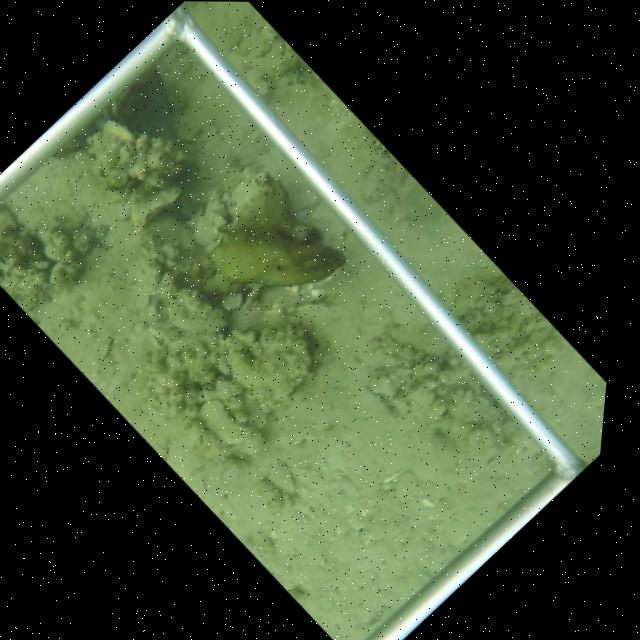Oyster-Closed: (128, 183, 181, 241)
Oyster-Indeterminate: (166, 286, 227, 341), (194, 398, 257, 448), (264, 460, 299, 500)
